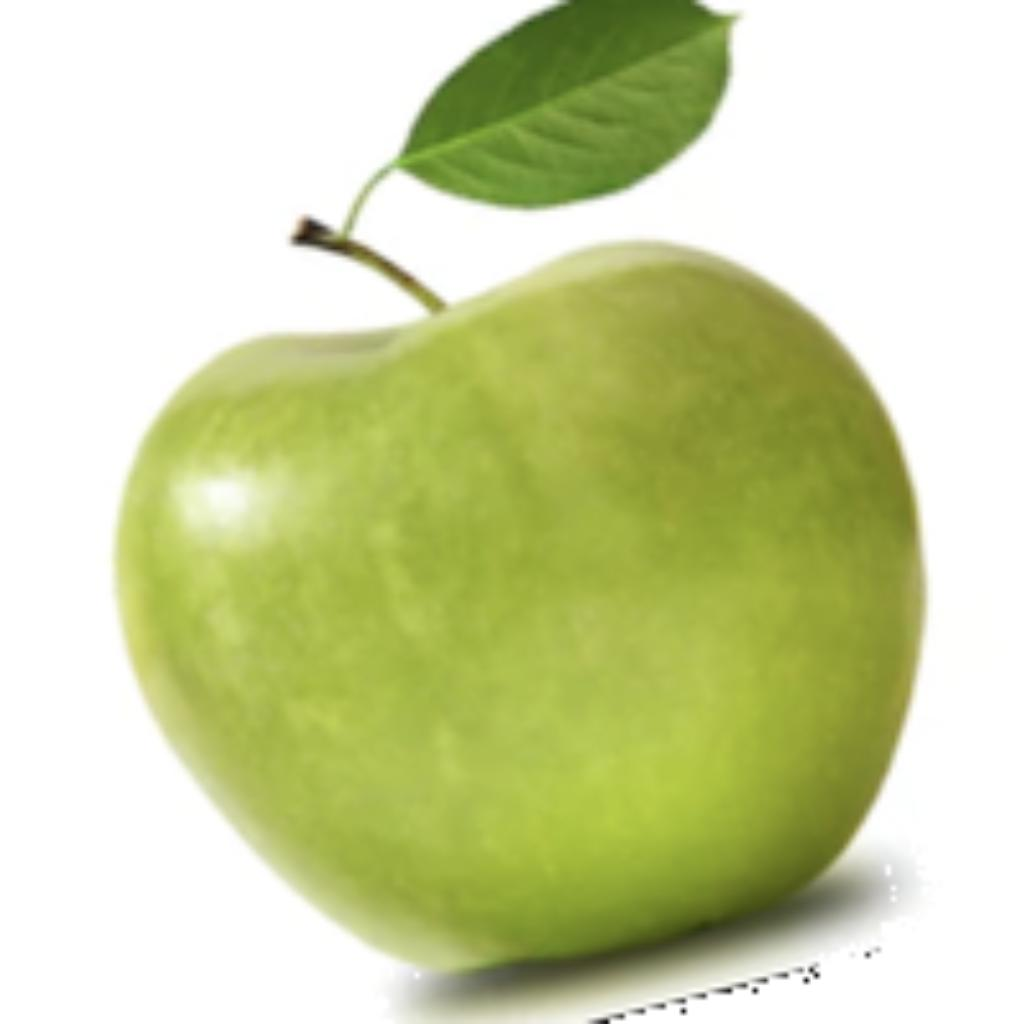apple: (102, 230, 932, 1019)
